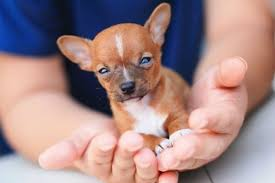chihuahua: (43, 2, 215, 169)
